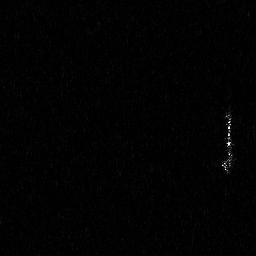ship: (220, 110, 235, 177)
